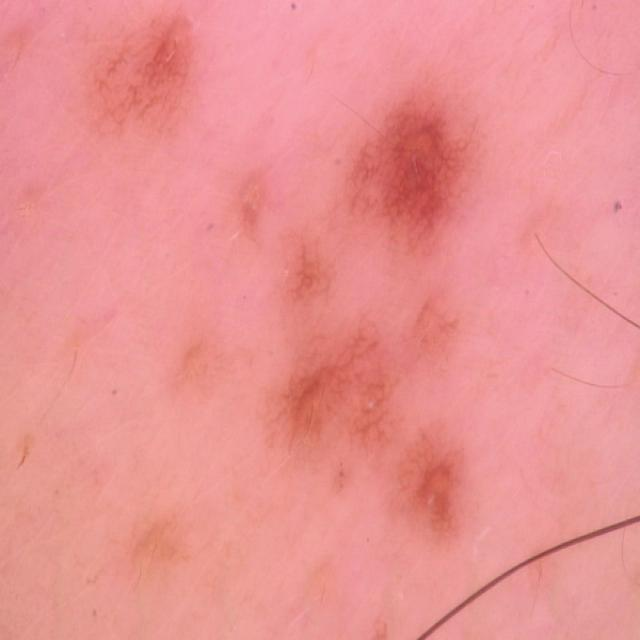NV: (254, 73, 485, 553)
